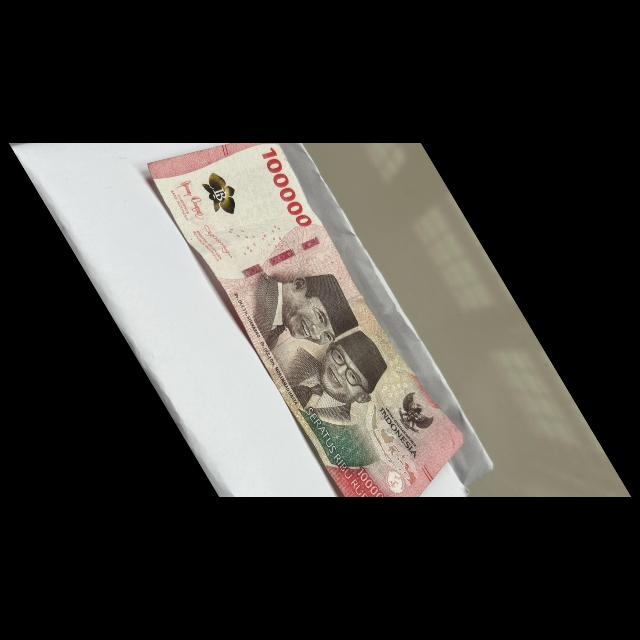Palsu-100k: (131, 89, 471, 520)
Tinta-Palsu-100k: (198, 165, 245, 223)
